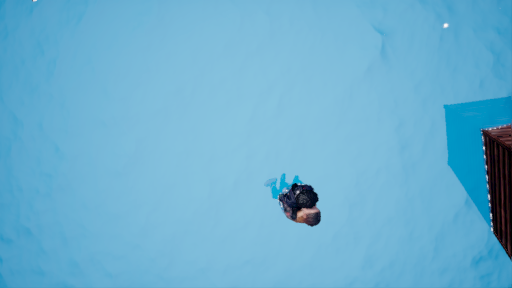person: (262, 174, 324, 230)
